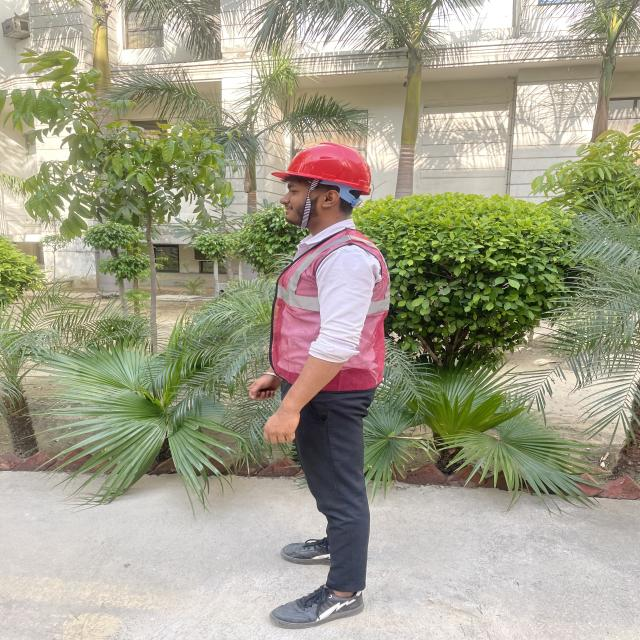safe: (251, 143, 387, 627)
